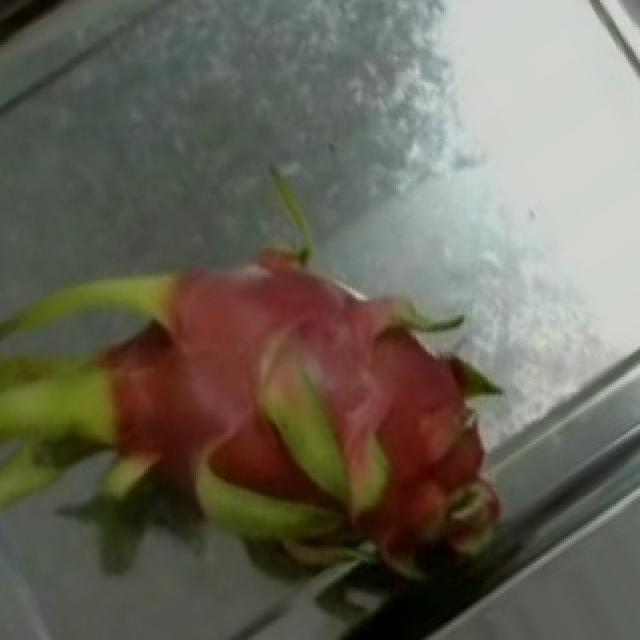fruit: (182, 213, 570, 638), (0, 169, 344, 635)
